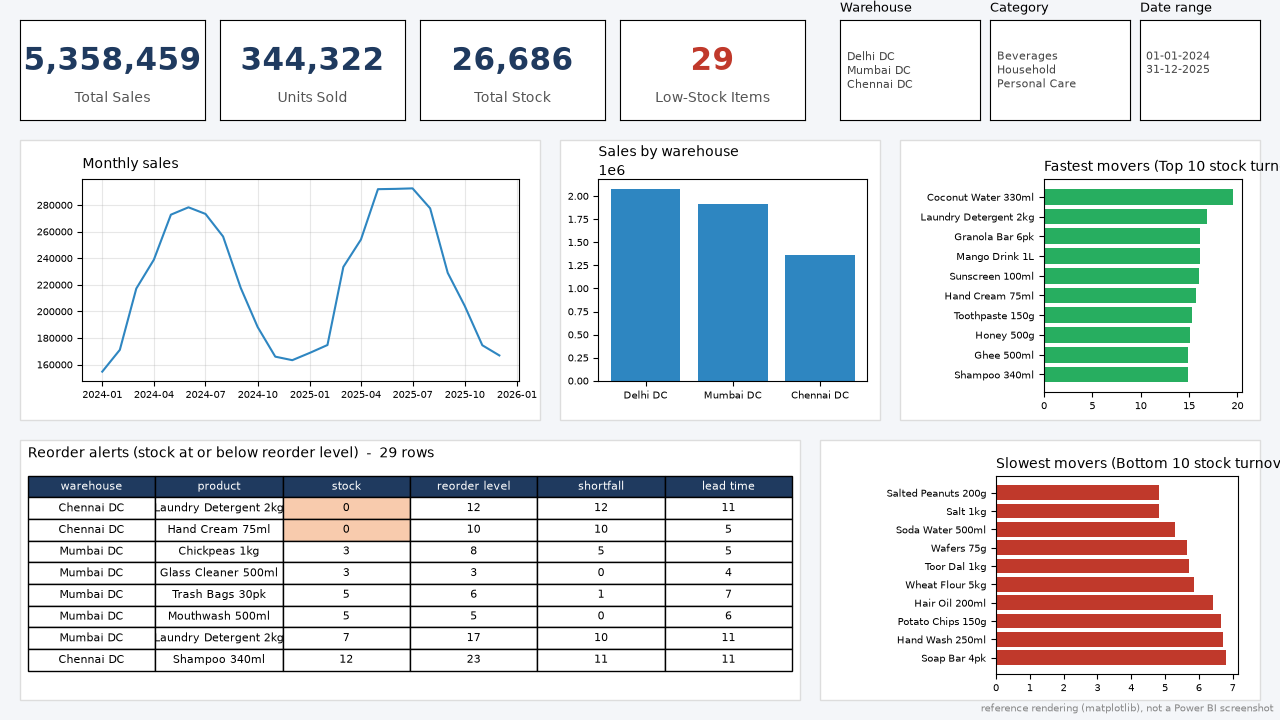

Layout of this report page (visuals, bound fields, positions):
{"tool":"powerbi","page":{"name":"Page 2","canvas":[1920,1080],"ordinal":1},"visuals":[{"type":"cardVisual","fields":{"Data":["_Measures.Total Sales"]},"box":[0,0,140,156.7],"z":0},{"type":"cardVisual","fields":{"Data":["_Measures.Units Sold"]},"box":[170,0,135,156.7],"z":1000},{"type":"cardVisual","fields":{"Data":["_Measures.Low-Stock Items"]},"box":[170,235,135,120],"z":2000},{"type":"cardVisual","fields":{"Data":["_Measures.Total Stock"]},"box":[0,235,140,120],"z":3000},{"type":"slicer","fields":{"Values":["dim_date.Date"]},"box":[560,276.7,280,186],"z":4000},{"type":"slicer","fields":{"Values":["dim_warehouses.warehouse_name"]},"box":[391.7,0,280,186],"z":5000},{"type":"slicer","fields":{"Values":["dim_products.category"]},"box":[740,0,280,186],"z":6000},{"type":"lineChart","fields":{"Category":["dim_date.Month"],"Y":["_Measures.Total Sales"]},"box":[0,608.3,940,471.7],"z":7000},{"type":"clusteredColumnChart","fields":{"Category":["dim_warehouses.warehouse_name"],"Y":["_Measures.Total Sales"]},"box":[1098.3,608.3,821.7,471.7],"z":8000}]}

Visuals, with their boxes in screenshot pixels (x1, y1, x2, y2), scaled from the page's 1920x1080 canvas onto the 1280x720 screenshot:
cardVisual - _Measures.Total Sales: crop(0, 0, 93, 104)
cardVisual - _Measures.Units Sold: crop(113, 0, 203, 104)
cardVisual - _Measures.Low-Stock Items: crop(113, 157, 203, 237)
cardVisual - _Measures.Total Stock: crop(0, 157, 93, 237)
slicer - dim_date.Date: crop(373, 184, 560, 308)
slicer - dim_warehouses.warehouse_name: crop(261, 0, 448, 124)
slicer - dim_products.category: crop(493, 0, 680, 124)
lineChart - dim_date.Month x _Measures.Total Sales: crop(0, 406, 627, 719)
clusteredColumnChart - dim_warehouses.warehouse_name x _Measures.Total Sales: crop(732, 406, 1279, 719)
